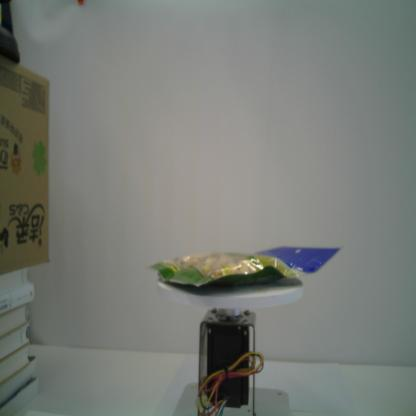Dried Fruit: (143, 243, 344, 294)
